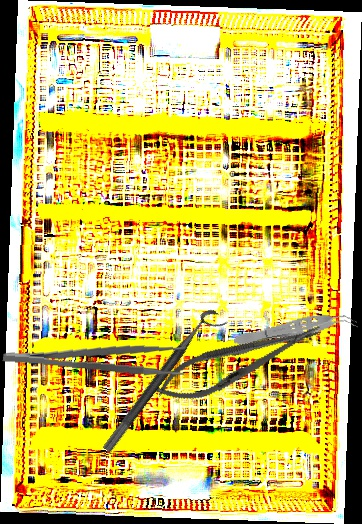Dressing Forceps: (2, 333, 186, 379)
Fixation Ring: (101, 305, 229, 463)
Needle Holder: (148, 310, 329, 414)
Tissue Forceps: (232, 307, 358, 352)
